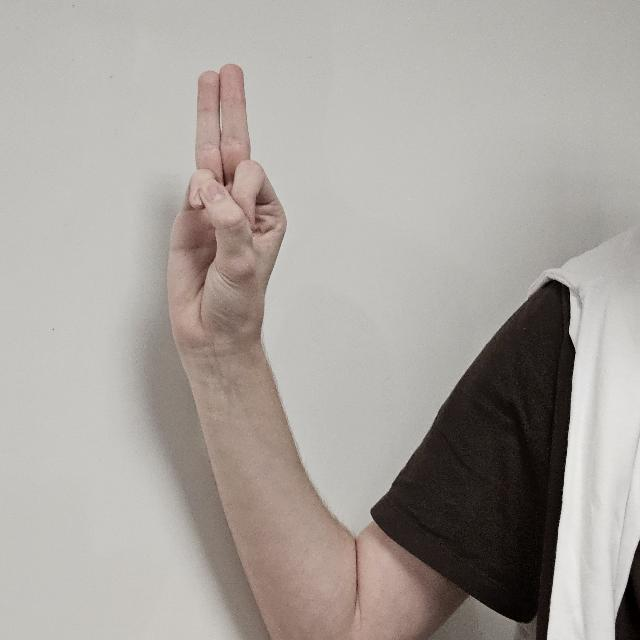R: (168, 57, 288, 431)
